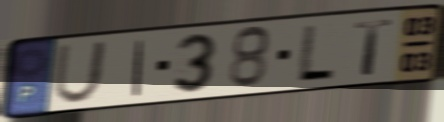3: (173, 30, 218, 96)
8: (226, 24, 275, 93)
I: (130, 39, 148, 99)
L: (293, 22, 338, 82)
T: (353, 16, 396, 78)
U: (50, 38, 110, 106)
